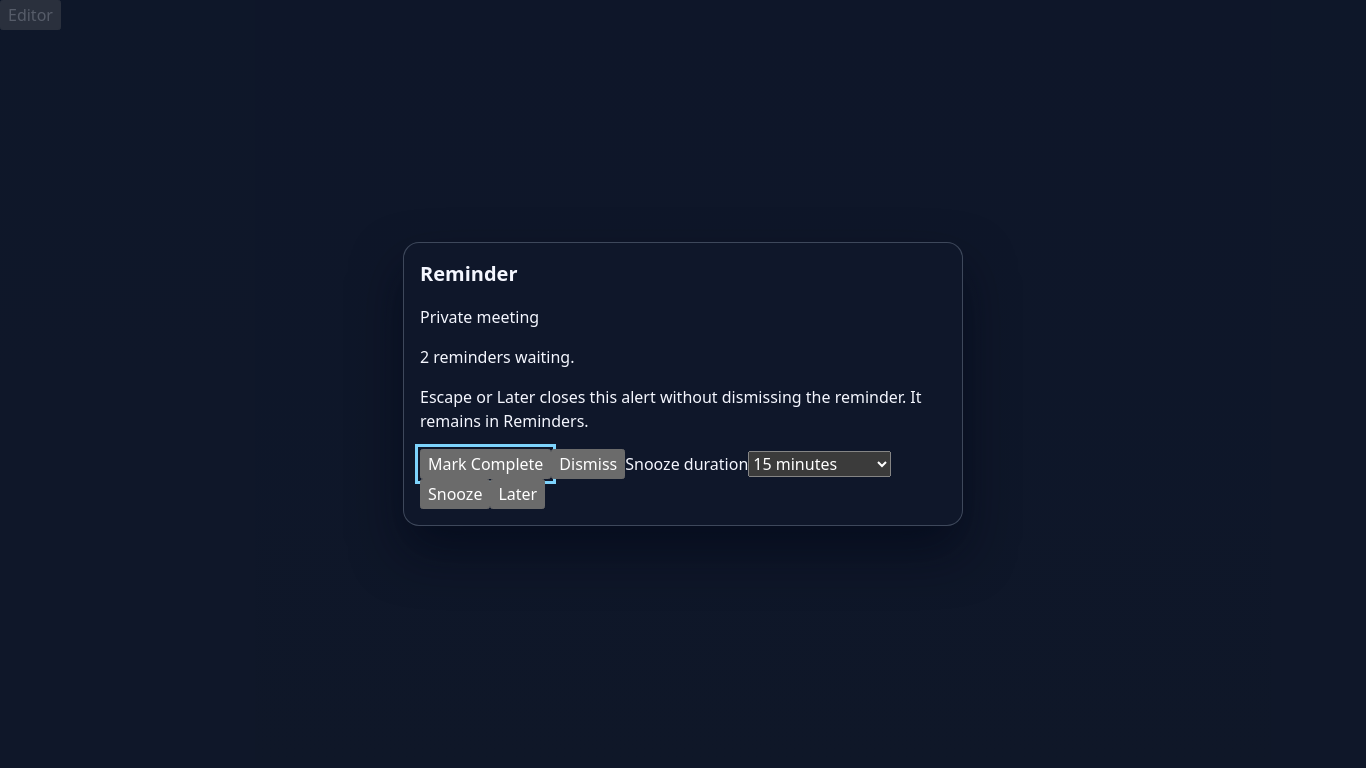
in-app reminder alerts › focuses immediately, traps keyboard, counts the queue and restores focus after Later/Escape
Expected: the dialog "Reminder" is shown, 403,242 -> 963,526
Expected: the message reads "2 reminders waiting.", 420,346 -> 574,368
Press Tab in the button "Mark Complete", box 420,449 -> 551,479
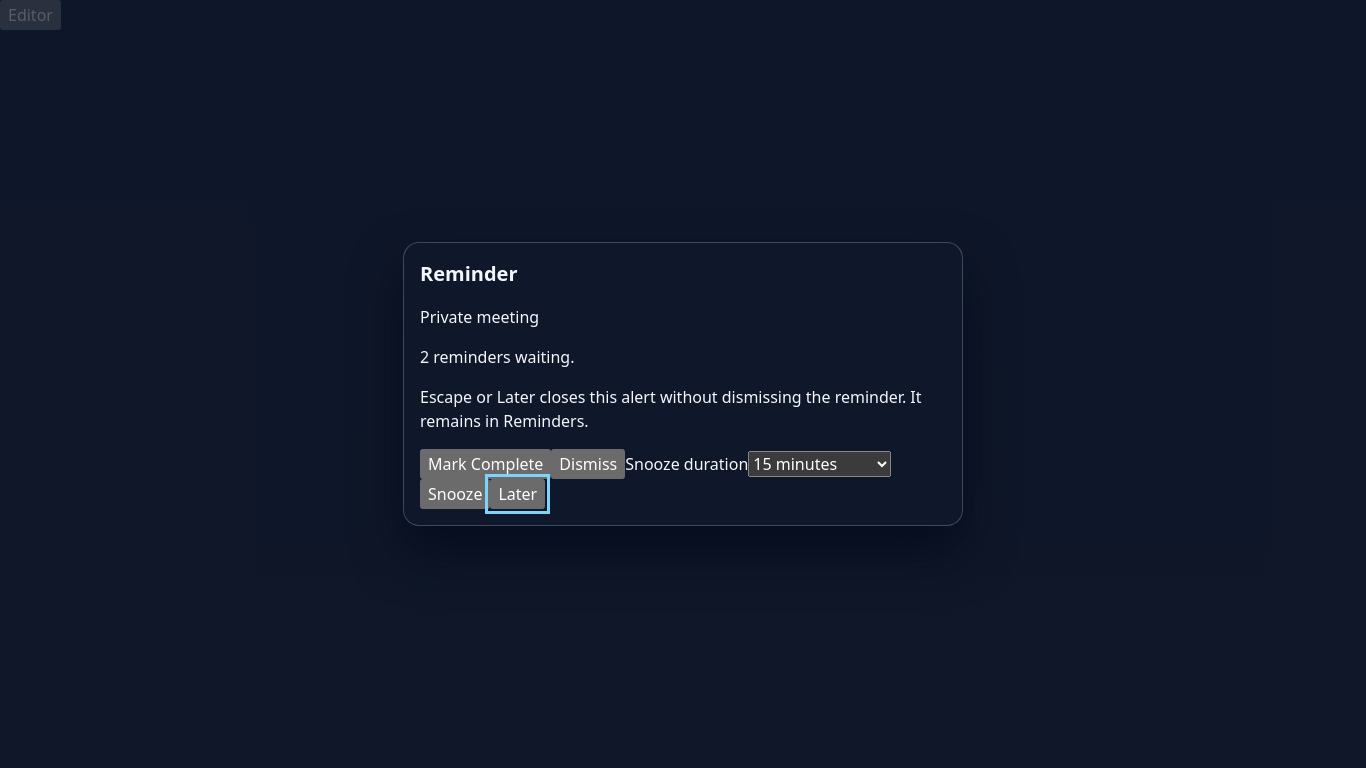
Press Escape in the dialog, box 403,242 -> 963,526
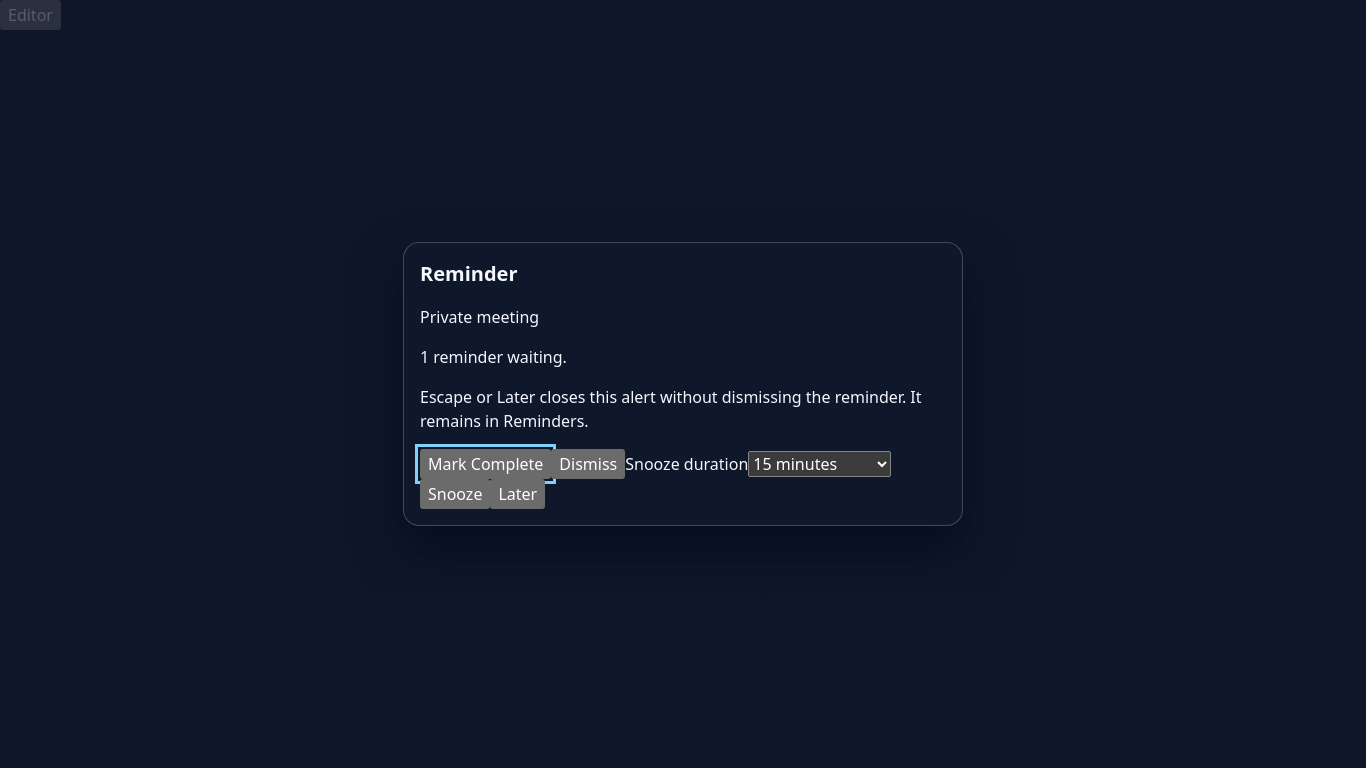
Now the message reads "1 reminder waiting.", box 420,346 -> 567,368
Click the button "Later": {"x": 518, "y": 494} 490,479 -> 545,509
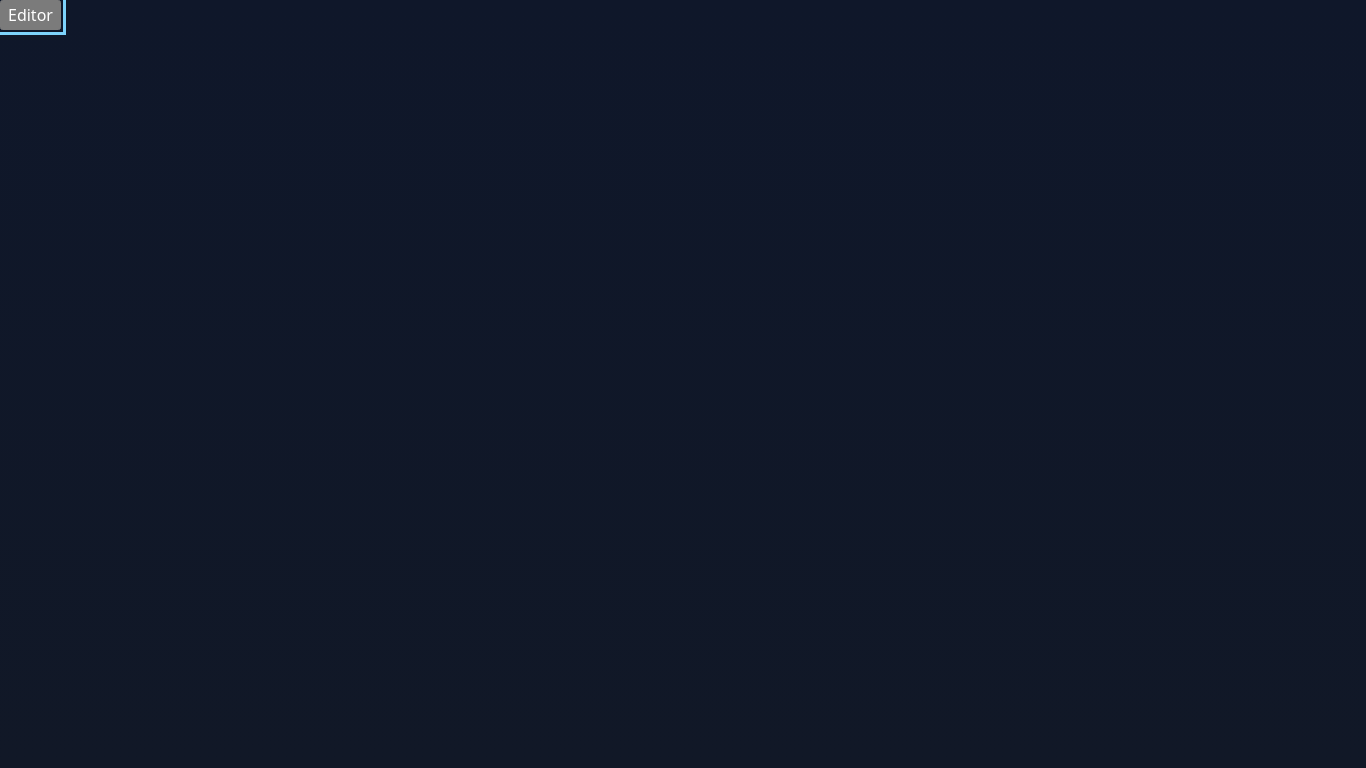
Now the dialog is gone
